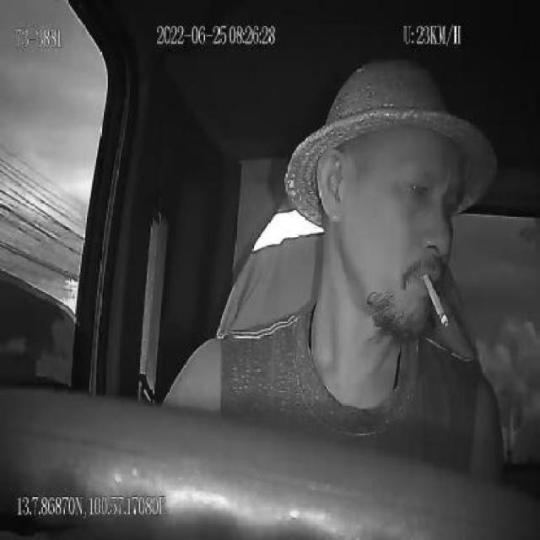smoking: (422, 269, 448, 331)
